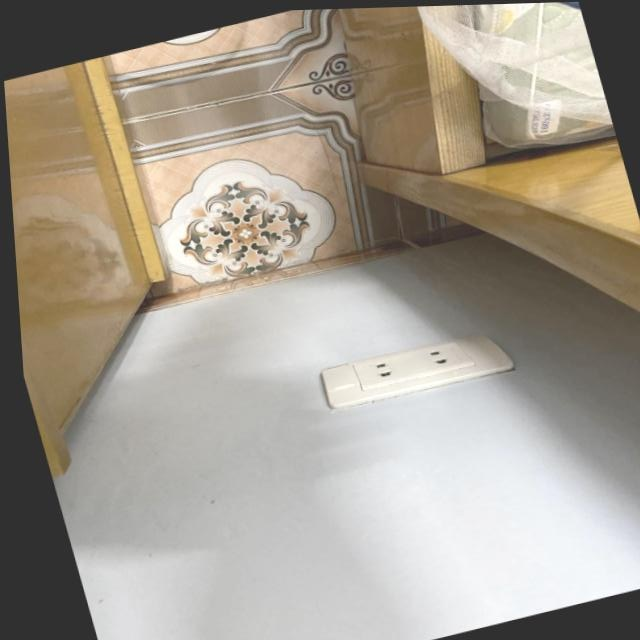outlet: (316, 323, 519, 414)
